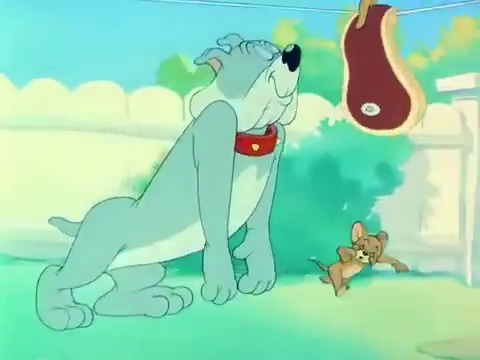spike: (184, 31, 305, 158)
